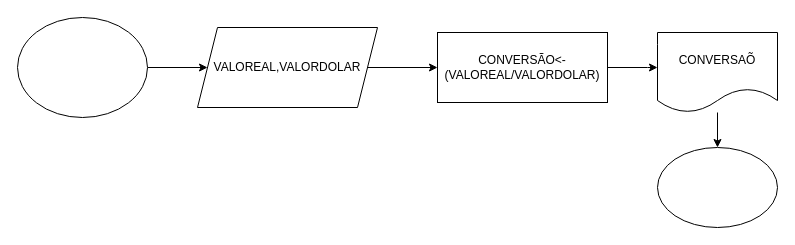
Image size: 795x245. Some labels were removed from this diagram. Here are the shapes that lost their labels. From the top down, the centre of each, then its label:
the point at 82,67: INICIO
the point at 717,187: FIM
